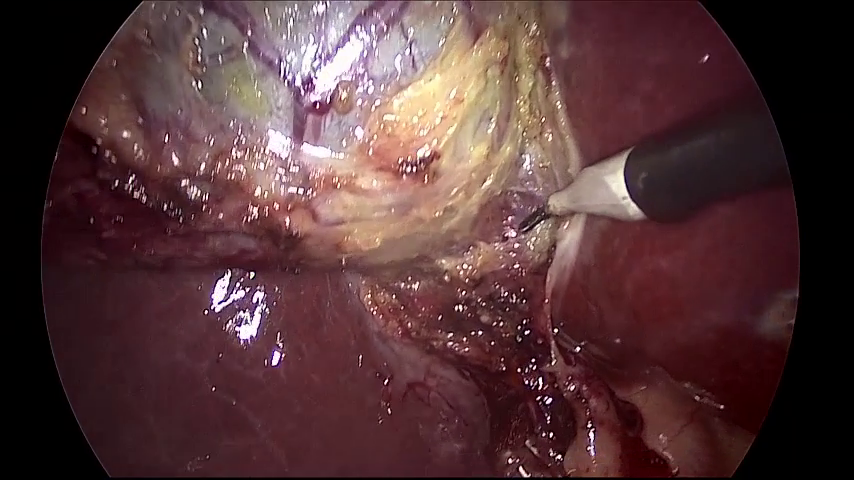lhook: (519, 80, 792, 231)
